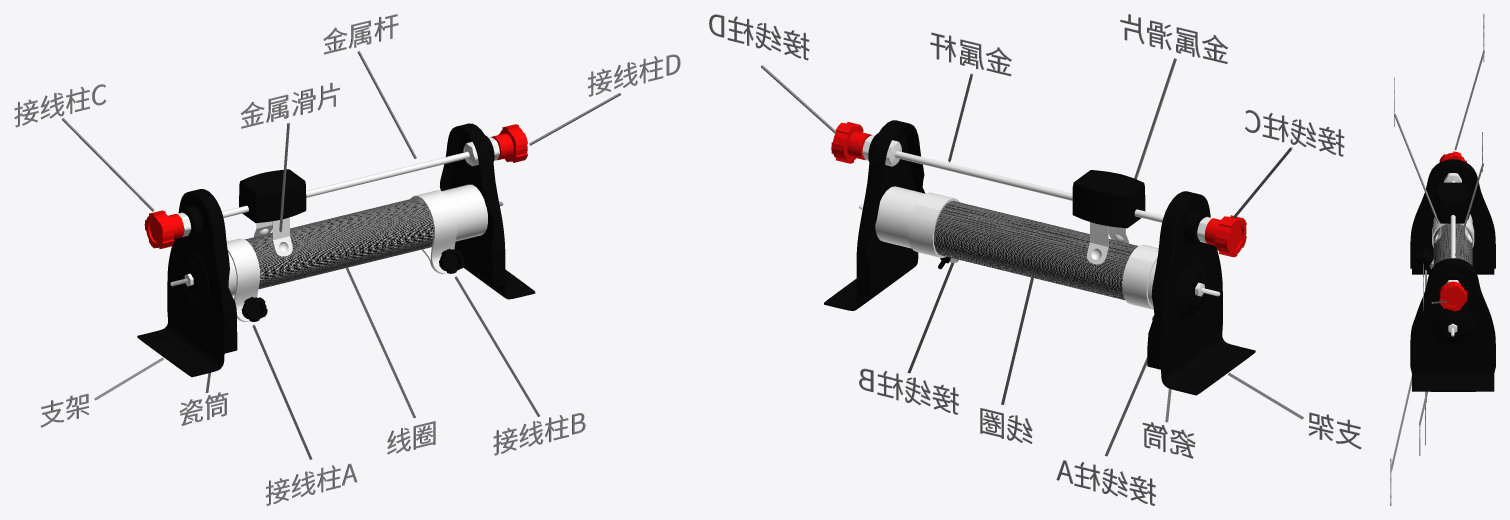
Rendered from HDBZQ.gltf.
3 views of the same model, side by side, from view 1: azimuth 30°, elevation 25°; view 2: azimuth 150°, elevation 25°; view 3: azimuth 270°, elevation 25° (orthographic). The views are drawn at different scales.
Parts seen in each view (by area): view 1: pCylinder3, polySurface20, pCylinder21, polySurface23, polySurface21, polySurface18, polySurface9, pCylinder8, typeMesh2, pCylinder11, polySurface227, polySurface198 (+7 smaller); view 2: pCylinder3, polySurface20, pCylinder21, polySurface23, polySurface21, polySurface18, pCylinder8, polySurface9, typeMesh2, pCylinder11, polySurface227, pSphere1 (+8 smaller); view 3: pCylinder21, pCylinder3, polySurface23, polySurface12, polySurface20, polySurface17, pCylinder29, pCylinder8, polySurface9, pCylinder30, pCylinder16, pCylinder26 (+4 smaller).
Boxes of the visible parts, bbox=[...] form: pCylinder3: bbox=[137, 189, 237, 377]; polySurface20: bbox=[245, 198, 433, 289]; pCylinder21: bbox=[439, 123, 535, 299]; polySurface23: bbox=[239, 169, 306, 223]; polySurface21: bbox=[228, 184, 487, 295]; polySurface18: bbox=[410, 190, 457, 273]; polySurface9: bbox=[226, 238, 260, 321]; pCylinder8: bbox=[222, 151, 469, 217]; typeMesh2: bbox=[240, 82, 339, 128]; pCylinder11: bbox=[144, 210, 184, 248]; polySurface227: bbox=[493, 413, 585, 455]; polySurface198: bbox=[588, 54, 680, 96]; pCylinder3: bbox=[1147, 191, 1255, 395]; polySurface20: bbox=[934, 201, 1138, 300]; pCylinder21: bbox=[824, 120, 925, 310]; polySurface23: bbox=[1072, 170, 1145, 228]; polySurface21: bbox=[875, 186, 1156, 306]; polySurface18: bbox=[908, 192, 959, 262]; pCylinder8: bbox=[895, 151, 1163, 222]; polySurface9: bbox=[1122, 244, 1158, 309]; typeMesh2: bbox=[1120, 14, 1228, 63]; pCylinder11: bbox=[1204, 215, 1246, 257]; polySurface227: bbox=[859, 368, 958, 414]; pSphere1: bbox=[1177, 257, 1208, 318]; pCylinder21: bbox=[1410, 258, 1495, 391]; pCylinder3: bbox=[1410, 159, 1495, 274]; polySurface23: bbox=[1436, 182, 1469, 223]; polySurface12: bbox=[1431, 308, 1475, 346]; polySurface20: bbox=[1433, 223, 1472, 265]; polySurface17: bbox=[1439, 281, 1467, 311]; pCylinder29: bbox=[1394, 113, 1439, 223]; pCylinder8: bbox=[1450, 180, 1455, 258]; polySurface9: bbox=[1430, 219, 1474, 269]; pCylinder30: bbox=[1454, 51, 1484, 150]; pCylinder16: bbox=[1414, 246, 1433, 266]; pCylinder26: bbox=[1390, 375, 1411, 470].
Size of the model in its own units: 189 by 123 by 36.6.
Materials: 7 (1 with a texture image).
